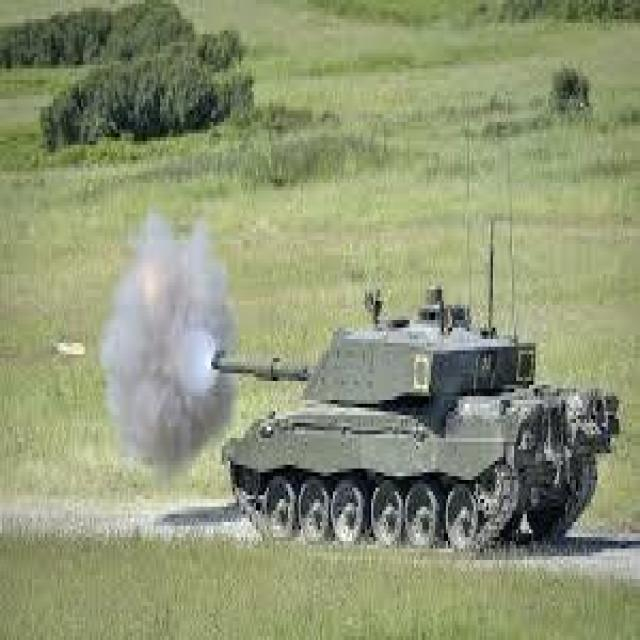Tanks: (149, 194, 578, 614)
